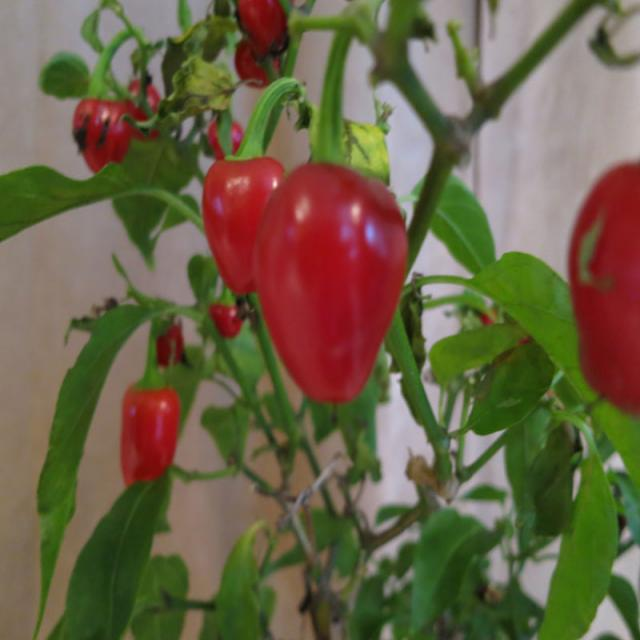aji: (263, 155, 407, 419), (205, 154, 278, 277)
